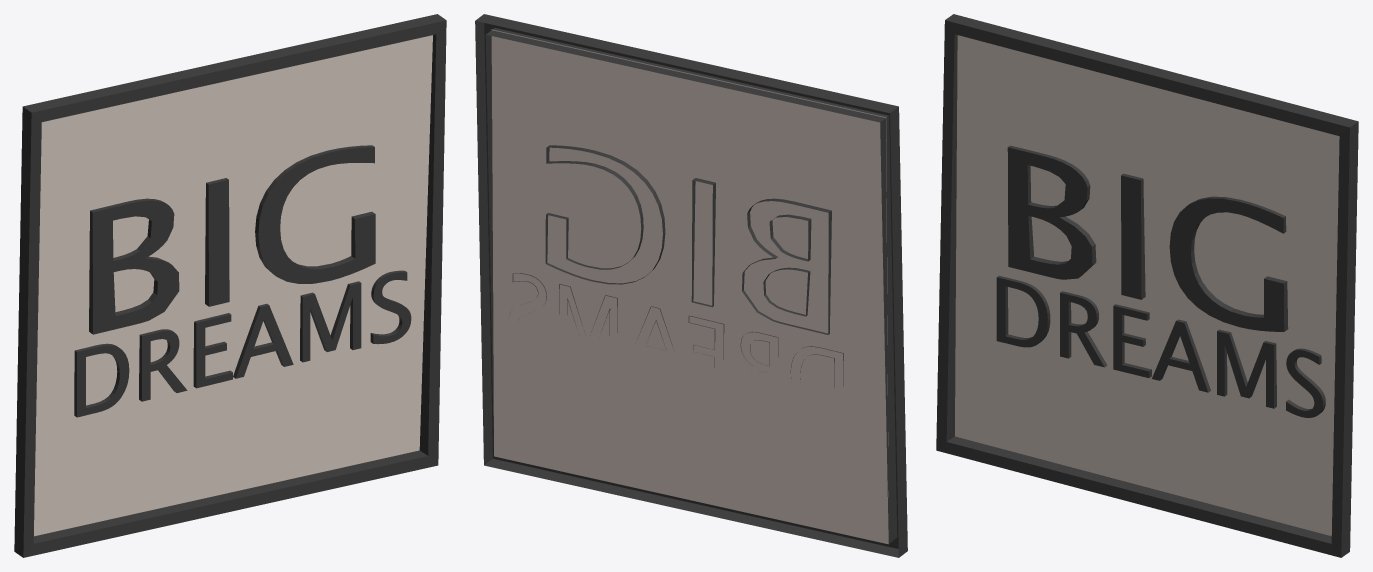
Rendered from Picture_12.fbx.
The picture shows the model from 3 angles, left to right: view 1: azimuth 30°, elevation 25°; view 2: azimuth 150°, elevation 25°; view 3: azimuth 330°, elevation 25°; orthographic projection. The views are drawn at different scales.
Parts seen in each view (by area): view 1: Picture_12; view 2: Picture_12; view 3: Picture_12.
Boxes of the visible parts, left/top/right/bottom form: Picture_12: left=14, top=14, right=446, bottom=557; Picture_12: left=475, top=14, right=907, bottom=557; Picture_12: left=936, top=14, right=1358, bottom=557.
Size of the model in its own units: 80.95 by 3.08 by 82.52.
